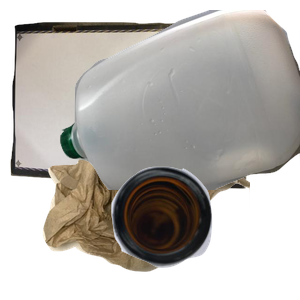cardboard: (10, 19, 250, 199)
glass: (109, 164, 300, 300)
plastic: (60, 10, 300, 190)
trash: (40, 138, 280, 300)
